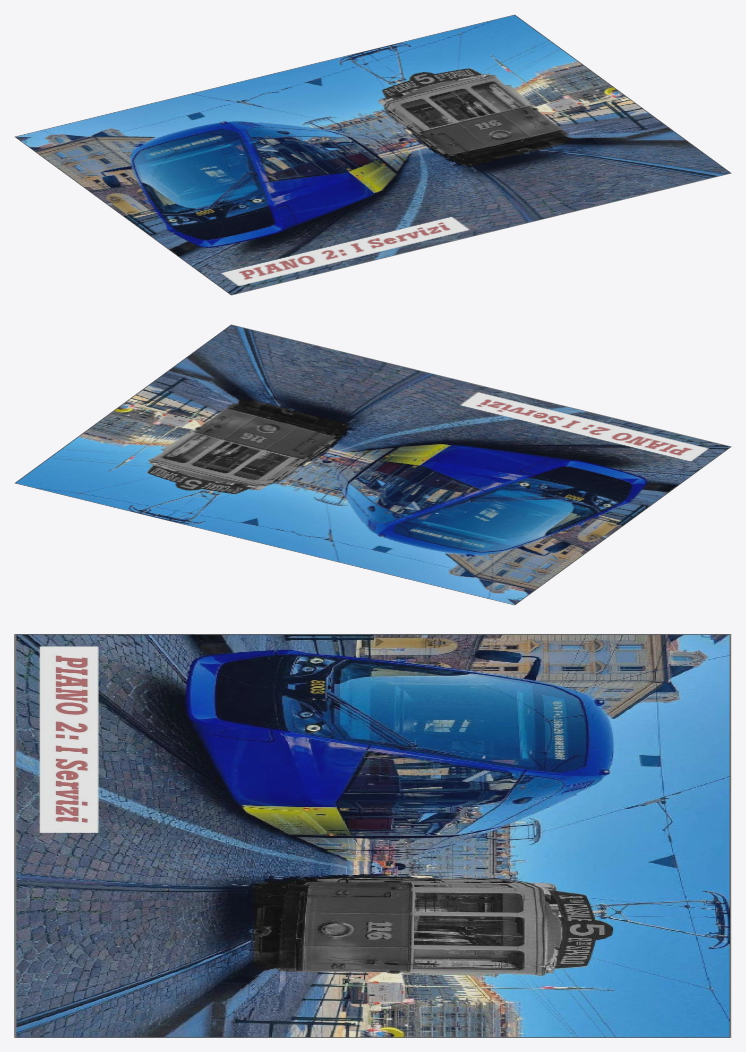
File: FOTO2.obj
The picture shows the model from 3 angles, top to bottom: view 1: azimuth 30°, elevation 25°; view 2: azimuth 150°, elevation 25°; view 3: azimuth 270°, elevation 25°; orthographic projection. The views are drawn at different scales.
Parts seen in each view (by area): view 1: Plane001; view 2: Plane001; view 3: Plane001.
Boxes of the visible parts, x1,y1,x2,y2 form: Plane001: (14,14,731,295); Plane001: (14,324,731,605); Plane001: (14,634,731,1037).
Bounding box in the file's own units: 8.44 × 0 × 6.34.
